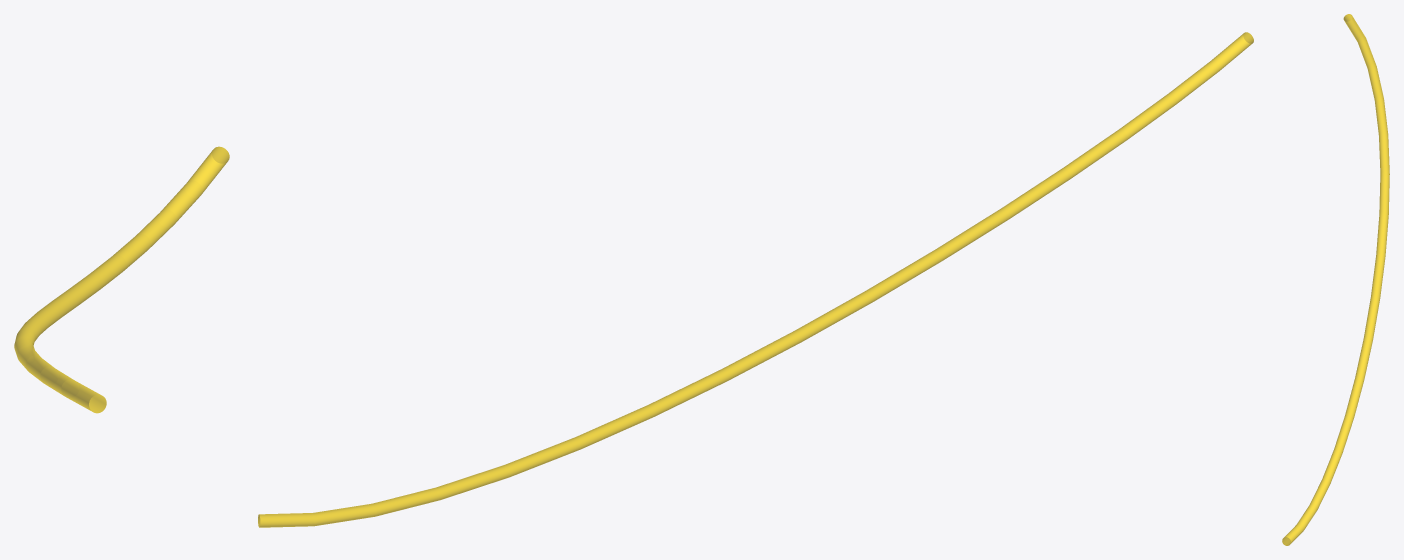
File: Event_100608114_track_90.fbx
3 renders of one model, left to right at view 1: azimuth 90°, elevation 25°; view 2: azimuth 210°, elevation 25°; view 3: azimuth 270°, elevation 25°, orthographic. The views are drawn at different scales.
Visible parts, largest first — view 1: Model; view 2: Model; view 3: Model.
Part boxes in pixels (x1,y1,x2,y2): Model: [14, 146, 229, 413]; Model: [258, 32, 1253, 527]; Model: [1282, 14, 1389, 545].
Bounding box in the file's own units: 3.24 × 0.9739 × 0.453.
